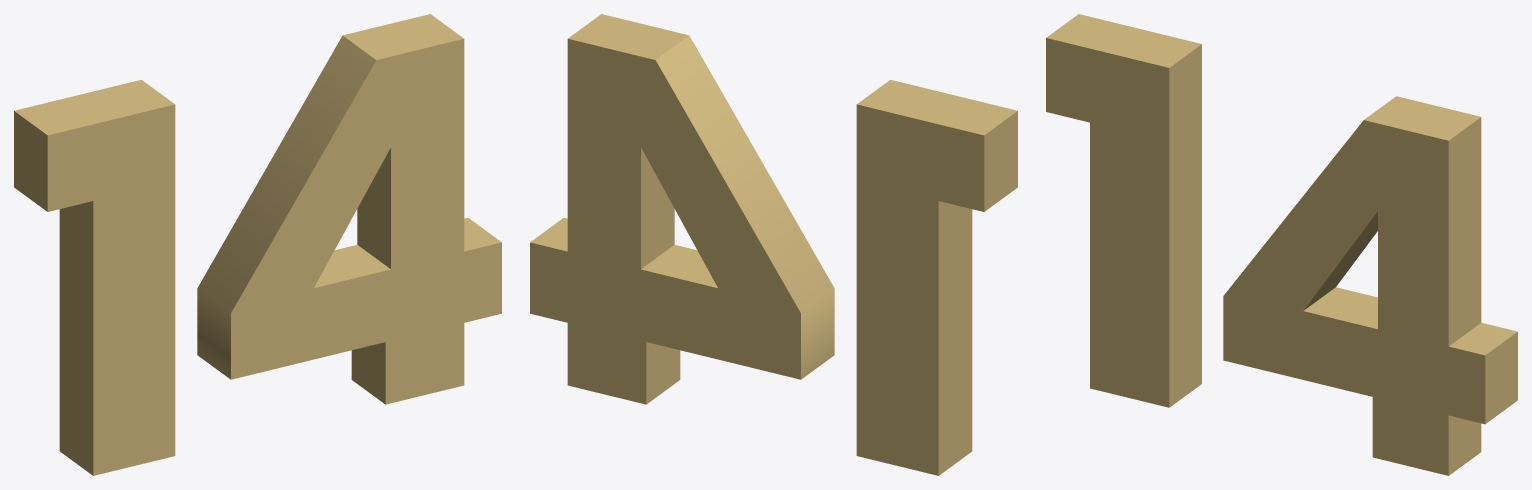
File: kr_num_14.glb
3 renders of one model, left to right at view 1: azimuth 30°, elevation 25°; view 2: azimuth 150°, elevation 25°; view 3: azimuth 330°, elevation 25°, orthographic. The views are drawn at different scales.
Parts seen in each view (by area): view 1: vc_m8_r2; view 2: vc_m8_r2; view 3: vc_m8_r2.
Boxes of the visible parts, box(x1,y1,x2,y2) form: vc_m8_r2: box(14, 14, 501, 475); vc_m8_r2: box(530, 14, 1017, 475); vc_m8_r2: box(1046, 14, 1517, 475).
Size of the model in its own units: 0.4661 by 0.3447 by 0.06.
